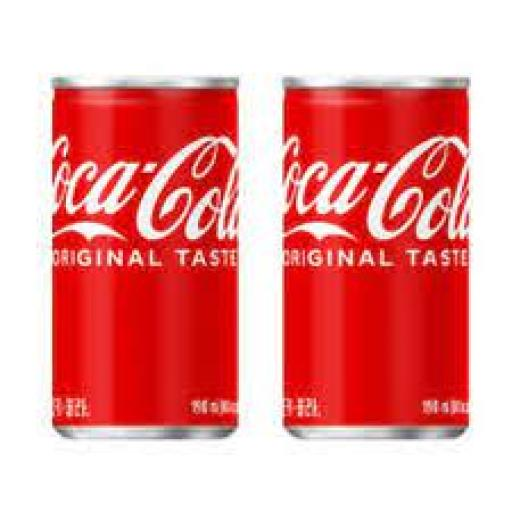Coca: (38, 66, 244, 446), (271, 66, 476, 446)
